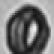correct: (4, 3, 52, 54)
